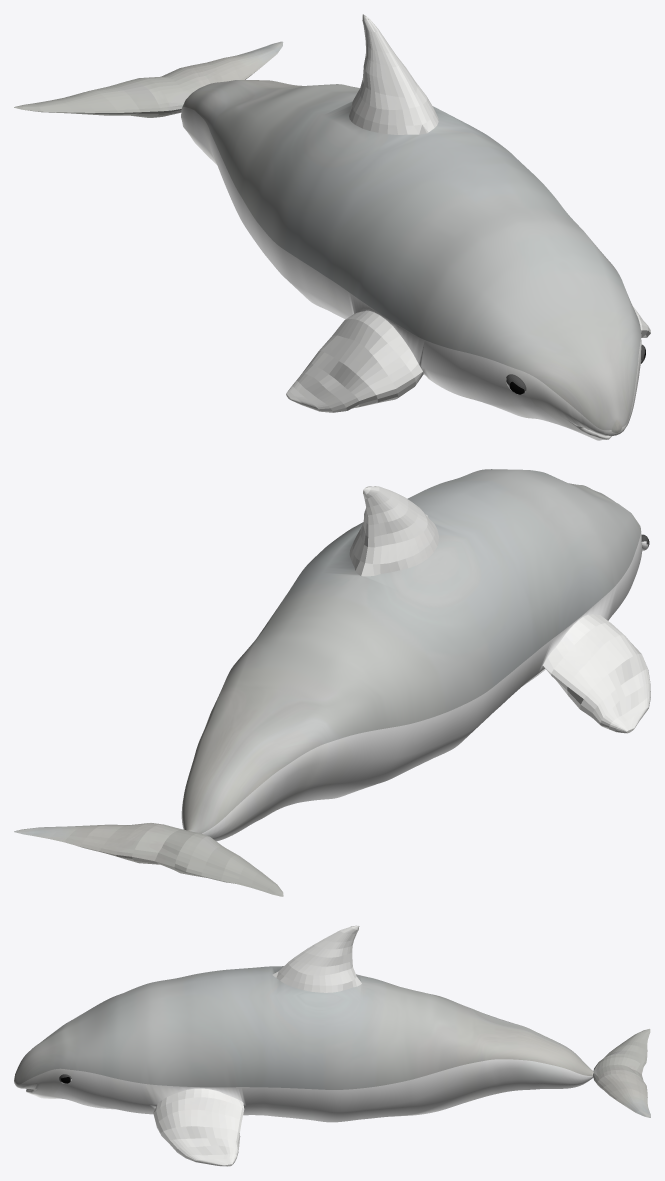
The model's file is VaquitaMarina.fbx.
3 renders of one model, top to bottom at view 1: azimuth 30°, elevation 25°; view 2: azimuth 150°, elevation 25°; view 3: azimuth 270°, elevation 25°, orthographic. The views are drawn at different scales.
Parts seen in each view (by area): view 1: Vaquita; view 2: Vaquita; view 3: Vaquita.
Part boxes in pixels (x1,y1,x2,y2): Vaquita: [14, 14, 650, 440]; Vaquita: [14, 469, 650, 896]; Vaquita: [14, 925, 650, 1166].
Size of the model in its own units: 177 by 135 by 419.
